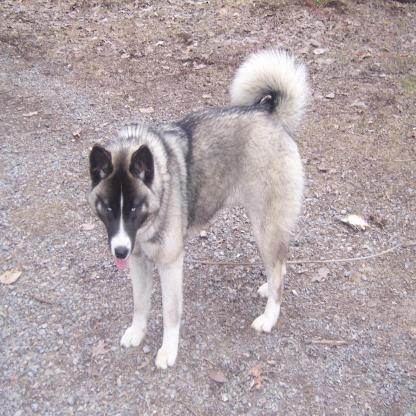husky: (89, 50, 308, 375)
